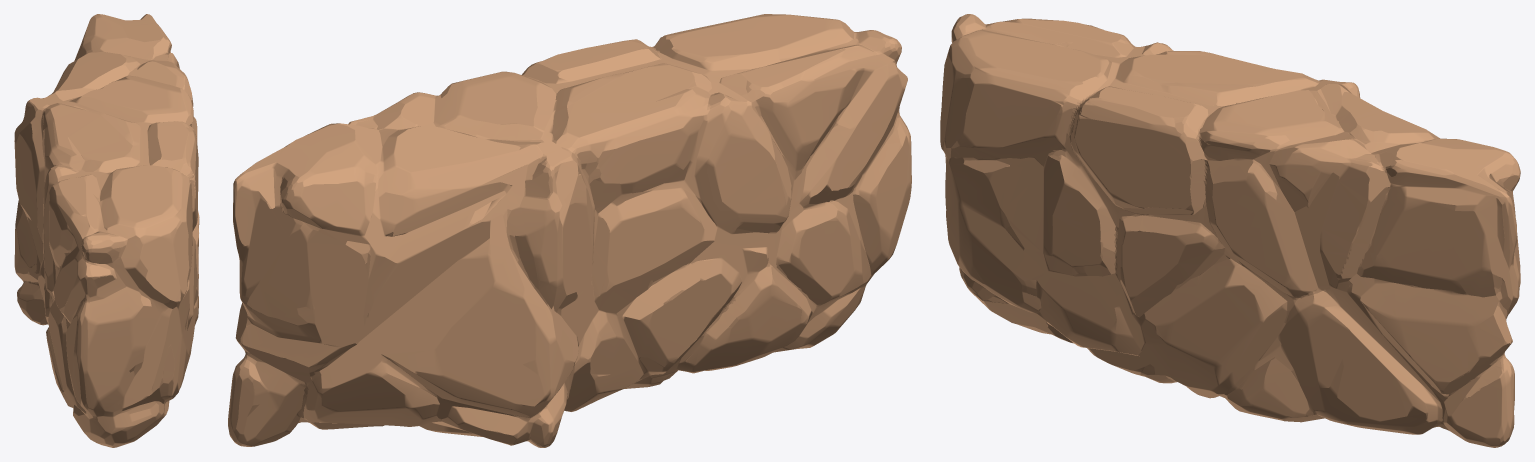
The picture shows the model from 3 angles, left to right: view 1: azimuth 30°, elevation 25°; view 2: azimuth 150°, elevation 25°; view 3: azimuth 270°, elevation 25°; orthographic projection. The views are drawn at different scales.
Parts seen in each view (by area): view 1: Mesh_63_LOD0; view 2: Mesh_63_LOD0; view 3: Mesh_63_LOD0.
Part boxes in pixels (left/top/right/bottom): Mesh_63_LOD0: left=14, top=14, right=199, bottom=447; Mesh_63_LOD0: left=228, top=14, right=911, bottom=447; Mesh_63_LOD0: left=940, top=14, right=1520, bottom=447.
Size of what is drawn, in the model's own units: 2905 by 2180 by 3996.
